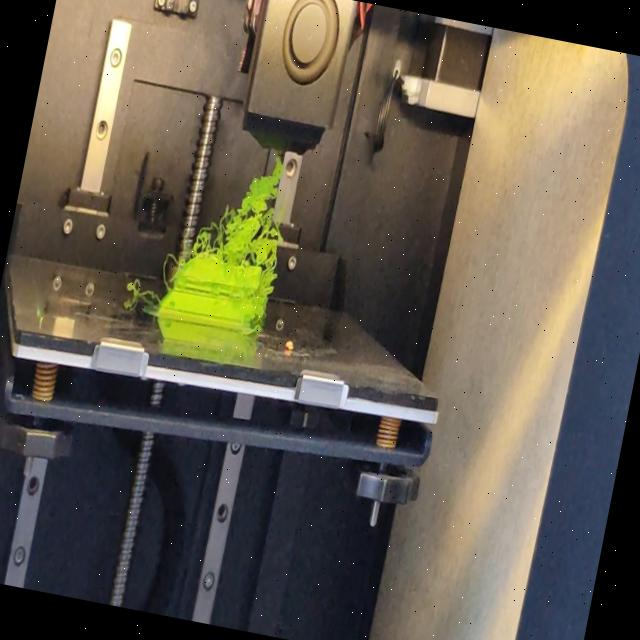spaghetti: (186, 142, 306, 276), (252, 273, 277, 332), (120, 276, 161, 304), (157, 250, 180, 289)
